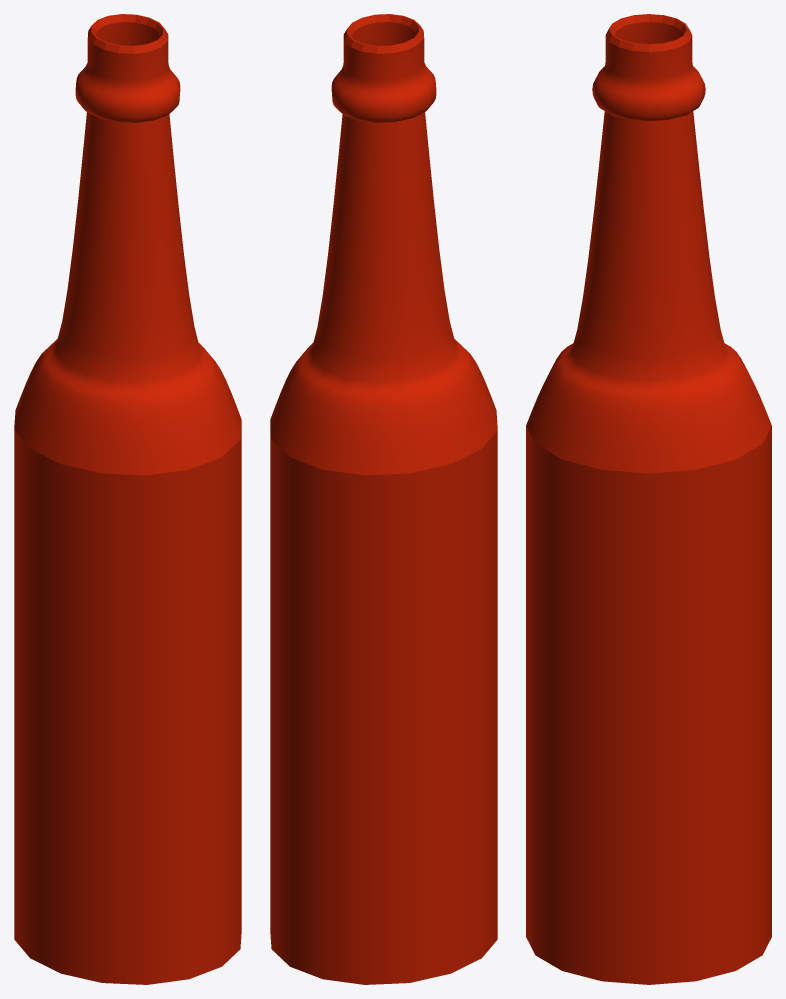
Rendered from Bottle.FBX.
3 renders of one model, left to right at view 1: azimuth 30°, elevation 25°; view 2: azimuth 150°, elevation 25°; view 3: azimuth 270°, elevation 25°, orthographic.
Visible parts, largest first — view 1: Bottle; view 2: Bottle; view 3: Bottle.
Boxes of the visible parts, x1,y1,x2,y2 form: Bottle: [14, 14, 241, 984]; Bottle: [270, 14, 497, 984]; Bottle: [526, 14, 771, 984].
Size of the model in its own units: 0.0848 by 0.3743 by 0.0919.
